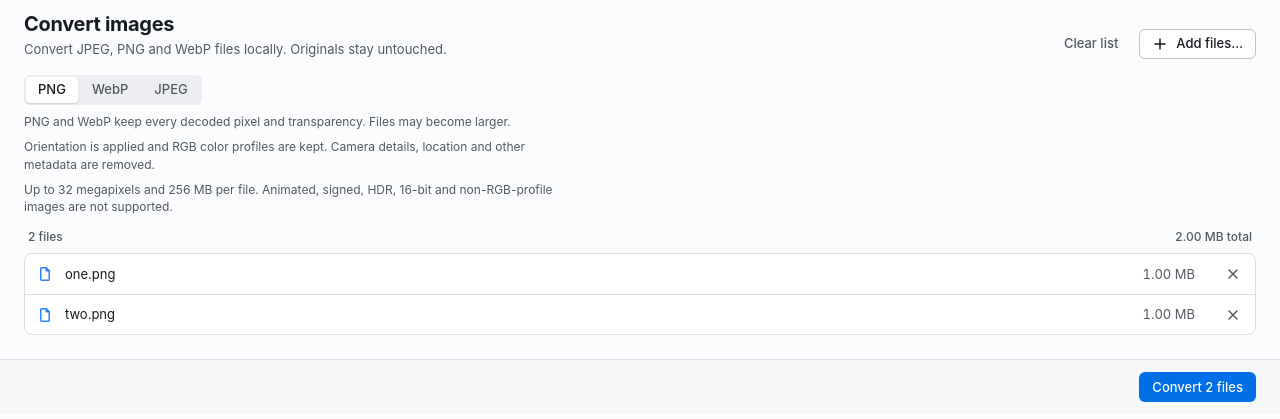
Test: cancels the batch, disables settings and does not start the next file
Click the button "Convert 2 files".
click(1198, 387)  # box [1139,372,1256,402]
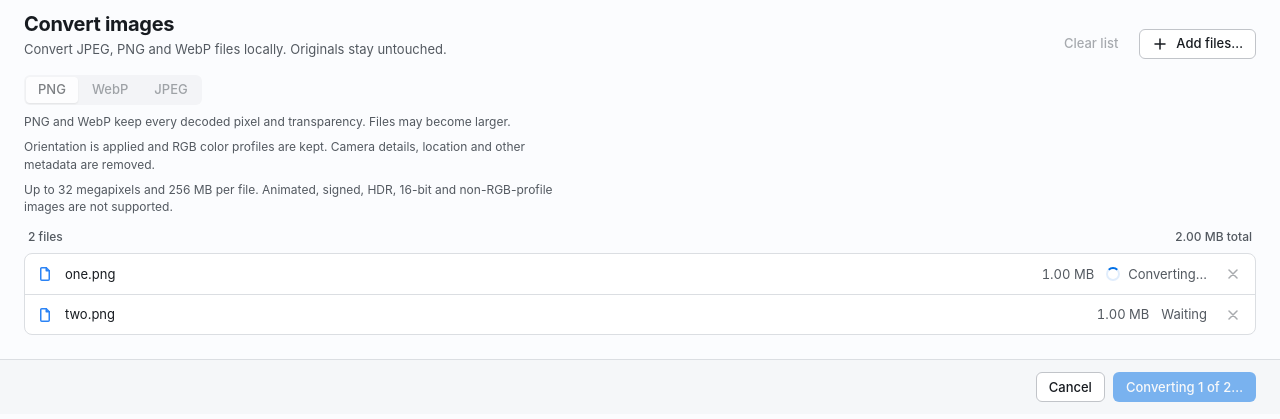
Expected: the radio button labelled "JPEG" is disabled, [154,81,188,97]
Expected: the text "Converting…" is shown, [1106,265,1207,284]
Click the button "Cancel".
click(1070, 387)  # box [1036,372,1105,402]
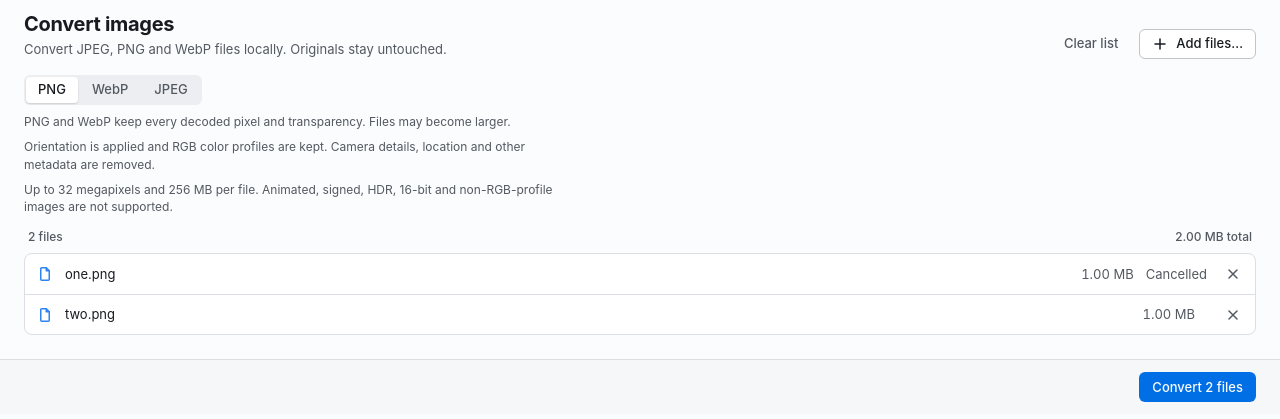
Expected: the radio button labelled "JPEG" is enabled, [154,81,188,97]
Expected: the text "Cancelled" is shown, [1146,265,1207,284]
